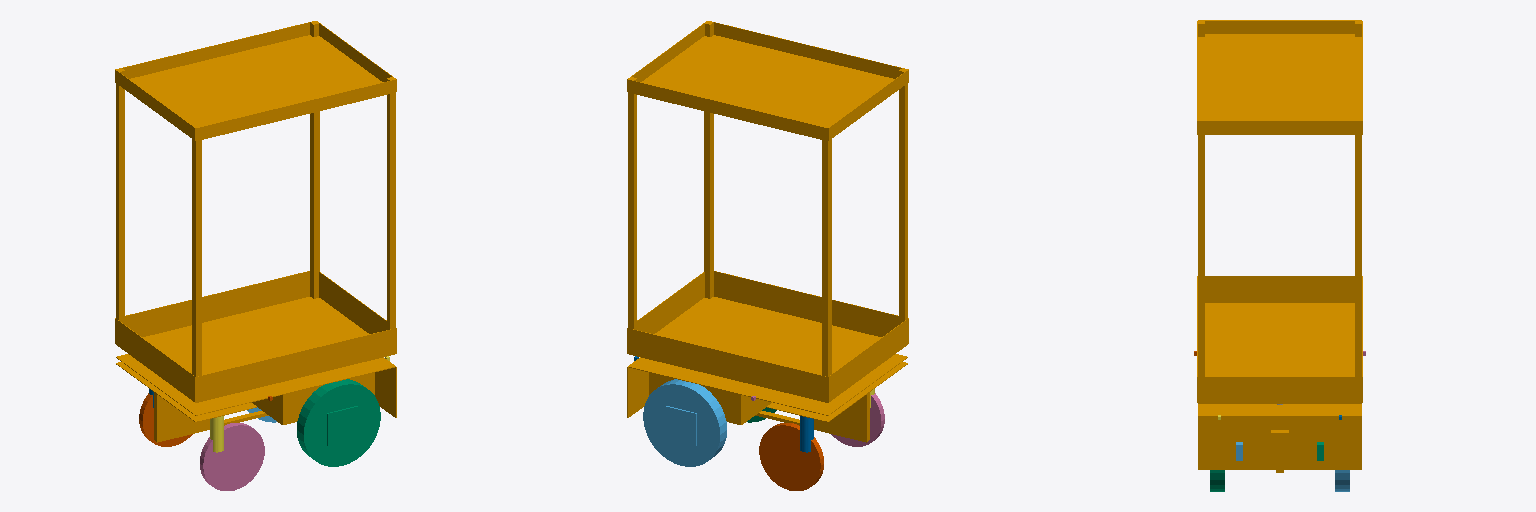
--- Facts derived from the render (not from the file) ---
3 views of the same robot in one strip: view 1: azimuth 30°, elevation 25°; view 2: azimuth 150°, elevation 25°; view 3: azimuth 270°, elevation 25° (orthographic).
Model pulurobot with 15 links and 14 joints (6 continuous, 8 fixed), rooted at link_chassis, posed every joint at zero.
Links seen in each view (by area): view 1: link_chassis, link_left_engine_wheel, link_right_free_wheel, link_left_free_wheel; view 2: link_chassis, link_right_engine_wheel, link_left_free_wheel, link_right_free_wheel; view 3: link_chassis.
Boxes of the visible links, <box> form: link_chassis: <box>115,21,396,442</box>; link_left_engine_wheel: <box>297,379,380,466</box>; link_right_free_wheel: <box>200,423,264,490</box>; link_left_free_wheel: <box>139,393,192,446</box>; link_chassis: <box>627,21,908,442</box>; link_right_engine_wheel: <box>643,379,726,466</box>; link_left_free_wheel: <box>759,423,823,490</box>; link_right_free_wheel: <box>831,393,884,446</box>; link_chassis: <box>1197,20,1362,472</box>.
Bounding box of the posed robot: 0.671 × 0.47 × 1.18 m (x, y, z).
Geometry: primitives only (box / cylinder / sphere), no mesh files.

The robot description file, URDF, robot "pulurobot":
<?xml version="1.0"?>
<robot name="pulurobot">
  
  <gazebo reference="link_chassis">
    <material>Gazebo/Orange</material>
  </gazebo>
  <gazebo reference="link_right_free_wheel">
    <material>Gazebo/Grey</material>
  </gazebo>
  <gazebo reference="link_left_free_wheel">
    <material>Gazebo/Grey</material>
  </gazebo>
  <gazebo reference="link_left_link_wheel">
    <material>Gazebo/Yellow</material>
  </gazebo>
  <gazebo reference="link_right_link_wheel">
    <material>Gazebo/Yellow</material>
  </gazebo>
  <gazebo reference="link_right_engine_wheel">
    <material>Gazebo/Grey</material>
  </gazebo>
  <gazebo reference="link_left_engine_wheel">
    <material>Gazebo/Grey</material>
  </gazebo>

  <!-- control pulurobot -->
  <gazebo>
    <plugin filename="libgazebo_ros_diff_drive.so" name="differential_drive_controller">
      <alwaysOn>true</alwaysOn>
      <updateRate>20</updateRate>
      <leftJoint>joint_left_engine_wheel</leftJoint>
      <rightJoint>joint_right_engine_wheel</rightJoint>
      <wheelSeparation>0.34</wheelSeparation>
      <wheelDiameter>0.125</wheelDiameter>
      <torque>0.1</torque>
      <commandTopic>cmd_vel</commandTopic>
      <odometryTopic>odom</odometryTopic>
      <odometryFrame>odom</odometryFrame>
      <robotBaseFrame>link_chassis</robotBaseFrame>
    </plugin>
  </gazebo>
  
    <!-- LIDAR -->
  <gazebo reference="hokuyo_link">
    <sensor type="gpu_ray" name="head_hokuyo_sensor">
      <pose>0 0 0 0 0 0</pose>
      <visualize>false</visualize>
      <update_rate>20</update_rate>
      <ray>
        <scan>
          <horizontal>
            <samples>1024</samples>
            <resolution>1</resolution>
            <min_angle>-3.14</min_angle>
            <max_angle>3.14</max_angle>
          </horizontal>
        </scan>
        <range>
          <min>0.10</min>
          <max>30.0</max>
          <resolution>0.01</resolution>
        </range>
        <noise>
          <type>gaussian</type>
          <!-- Noise parameters based on published spec for Hokuyo laser
               achieving "+-30mm" accuracy at range < 10m.  A mean of 0.0m and
               stddev of 0.01m will put 99.7% of samples within 0.03m of the true
               reading. -->
          <mean>0.0</mean>
          <stddev>0.01</stddev>
        </noise>
      </ray>
      <plugin name="gazebo_ros_head_hokuyo_controller" filename="libgazebo_ros_gpu_laser.so">
        <topicName>/pulurobot/laser/scan</topicName>
        <frameName>hokuyo_link</frameName>
      </plugin>
    </sensor>
  </gazebo>

  <!-- sonar -->
  <gazebo reference="base_sonar_front">        
   <sensor type="ray" name="sonar1">
      <pose>0 0 0 0 0 0</pose>
      <visualize>false</visualize>
      <update_rate>10</update_rate>
      <ray>
         <scan>
            <horizontal>
               <samples>20</samples>
               <resolution>1</resolution> 
               <min_angle>-0.13</min_angle>
               <max_angle>0.13</max_angle>
            </horizontal>
            <vertical>
               <samples>20</samples>
               <resolution>1</resolution> 
               <min_angle>-0.13</min_angle>
               <max_angle>0.13</max_angle> 
            </vertical>
         </scan>
         <range>
            <min>0.01</min>
            <max>2</max>
            <resolution>0.02</resolution>
         </range>
      </ray>
      <plugin filename="libgazebo_ros_range.so" name="gazebo_ros_range">
         <gaussianNoise>0.005</gaussianNoise>
         <alwaysOn>true</alwaysOn>
         <updateRate>10</updateRate>
         <topicName>sensor/ir_front</topicName>
         <frameName>base_sonar_front</frameName>
         <radiation>INFRARED</radiation>
         <fov>0.2967</fov>
      </plugin>
   </sensor>  
   </gazebo>
   
   <gazebo reference="base_sonar_front2">        
   <sensor type="ray" name="sonar2">
      <pose>0 0 0 0 0 0</pose>
      <visualize>false</visualize>
      <update_rate>10</update_rate>
      <ray>
         <scan>
            <horizontal>
               <samples>20</samples>
               <resolution>1</resolution> 
               <min_angle>-0.13</min_angle>
               <max_angle>0.13</max_angle>
            </horizontal>
            <vertical>
               <samples>20</samples>
               <resolution>1</resolution> 
               <min_angle>-0.13</min_angle>
               <max_angle>0.13</max_angle> 
            </vertical>
         </scan>
         <range>
            <min>0.01</min>
            <max>2</max>
            <resolution>0.02</resolution>
         </range>
      </ray>
      <plugin filename="libgazebo_ros_range.so" name="gazebo_ros_range">
         <gaussianNoise>0.005</gaussianNoise>
         <alwaysOn>true</alwaysOn>
         <updateRate>10</updateRate>
         <topicName>sensor/ir_front</topicName>
         <frameName>base_sonar_front2</frameName>
         <radiation>INFRARED</radiation>
         <fov>0.2967</fov>
      </plugin>
   </sensor>  
   </gazebo>
   
   <gazebo reference="base_sonar_front3">        
   <sensor type="ray" name="sonar3">
      <pose>0 0 0 0 0 0</pose>
      <visualize>false</visualize>
      <update_rate>10</update_rate>
      <ray>
         <scan>
            <horizontal>
               <samples>20</samples>
               <resolution>1</resolution> 
               <min_angle>-0.13</min_angle>
               <max_angle>0.13</max_angle>
            </horizontal>
            <vertical>
               <samples>20</samples>
               <resolution>1</resolution> 
               <min_angle>-0.13</min_angle>
               <max_angle>0.13</max_angle> 
            </vertical>
         </scan>
         <range>
            <min>0.01</min>
            <max>2</max>
            <resolution>0.02</resolution>
         </range>
      </ray>
      <plugin filename="libgazebo_ros_range.so" name="gazebo_ros_range">
         <gaussianNoise>0.005</gaussianNoise>
         <alwaysOn>true</alwaysOn>
         <updateRate>10</updateRate>
         <topicName>sensor/ir_front</topicName>
         <frameName>base_sonar_front3</frameName>
         <radiation>INFRARED</radiation>
         <fov>0.2967</fov>
      </plugin>
   </sensor>  
   </gazebo>
   
   <!-- camera -->
  <gazebo reference="camera">  
      <sensor type="depth" name="camera">
        <always_on>true</always_on>
        <update_rate>5</update_rate>
        <camera>
          <horizontal_fov>1</horizontal_fov>
          <image>
            <format>R8G8B8</format>
            <width>100</width>
            <height>300</height>
          </image>
          <clip>
            <near>0.05</near>
            <far>2</far>
          </clip>
        </camera>
        <plugin name="kinect_camera_controller" filename="libgazebo_ros_depth_camera.so">
          <cameraName>camera</cameraName>
          <alwaysOn>true</alwaysOn>
          <updateRate>5</updateRate>
          <imageTopicName>rgb/image_raw</imageTopicName>
          <depthImageTopicName>depth/image_raw</depthImageTopicName>
          <pointCloudTopicName>depth/points</pointCloudTopicName>
          <cameraInfoTopicName>rgb/camera_info</cameraInfoTopicName>
          <depthImageCameraInfoTopicName>depth/camera_info</depthImageCameraInfoTopicName>
          <frameName>camera</frameName>
          <baseline>0.2</baseline>
          <distortion_k1>0.0</distortion_k1>
          <distortion_k2>0.0</distortion_k2>
          <distortion_k3>0.0</distortion_k3>
          <distortion_t1>0.0</distortion_t1>
          <distortion_t2>0.0</distortion_t2>
          <pointCloudCutoff>0.05</pointCloudCutoff>
          <CxPrime>0</CxPrime>
          <Cx>0</Cx>
          <Cy>0</Cy>
        </plugin>
      </sensor>
    </gazebo>
    
    <gazebo reference="camera2">  
      <sensor type="depth" name="camera2">
        <always_on>true</always_on>
        <update_rate>5</update_rate>
        <camera>
          <horizontal_fov>1</horizontal_fov>
          <image>
            <format>R8G8B8</format>
            <width>100</width>
            <height>300</height>
          </image>
          <clip>
            <near>0.05</near>
            <far>2</far>
          </clip>
        </camera>
        <plugin name="kinect_camera_controller" filename="libgazebo_ros_depth_camera.so">
          <cameraName>camera2</cameraName>
          <alwaysOn>true</alwaysOn>
          <updateRate>5</updateRate>
          <imageTopicName>rgb/image_raw</imageTopicName>
          <depthImageTopicName>depth/image_raw</depthImageTopicName>
          <pointCloudTopicName>depth/points</pointCloudTopicName>
          <cameraInfoTopicName>rgb/camera_info</cameraInfoTopicName>
          <depthImageCameraInfoTopicName>depth/camera_info</depthImageCameraInfoTopicName>
          <frameName>camera2</frameName>
          <baseline>0.2</baseline>
          <distortion_k1>0.0</distortion_k1>
          <distortion_k2>0.0</distortion_k2>
          <distortion_k3>0.0</distortion_k3>
          <distortion_t1>0.0</distortion_t1>
          <distortion_t2>0.0</distortion_t2>
          <pointCloudCutoff>0.05</pointCloudCutoff>
          <CxPrime>0</CxPrime>
          <Cx>0</Cx>
          <Cy>0</Cy>
        </plugin>
      </sensor>
    </gazebo>
    
    <gazebo reference="camera3">  
      <sensor type="depth" name="camera3">
        <always_on>true</always_on>
        <update_rate>5</update_rate>
        <camera>
          <horizontal_fov>1</horizontal_fov>
          <image>
            <format>R8G8B8</format>
            <width>100</width>
            <height>300</height>
          </image>
          <clip>
            <near>0.05</near>
            <far>2</far>
          </clip>
        </camera>
        <plugin name="kinect_camera_controller" filename="libgazebo_ros_depth_camera.so">
          <cameraName>camera3</cameraName>
          <alwaysOn>true</alwaysOn>
          <updateRate>5</updateRate>
          <imageTopicName>rgb/image_raw</imageTopicName>
          <depthImageTopicName>depth/image_raw</depthImageTopicName>
          <pointCloudTopicName>depth/points</pointCloudTopicName>
          <cameraInfoTopicName>rgb/camera_info</cameraInfoTopicName>
          <depthImageCameraInfoTopicName>depth/camera_info</depthImageCameraInfoTopicName>
          <frameName>camera3</frameName>
          <baseline>0.2</baseline>
          <distortion_k1>0.0</distortion_k1>
          <distortion_k2>0.0</distortion_k2>
          <distortion_k3>0.0</distortion_k3>
          <distortion_t1>0.0</distortion_t1>
          <distortion_t2>0.0</distortion_t2>
          <pointCloudCutoff>0.05</pointCloudCutoff>
          <CxPrime>0</CxPrime>
          <Cx>0</Cx>
          <Cy>0</Cy>
        </plugin>
      </sensor>
    </gazebo>
    
    <gazebo reference="camera4">  
      <sensor type="depth" name="camera4">
        <always_on>true</always_on>
        <update_rate>5</update_rate>
        <camera>
          <horizontal_fov>1</horizontal_fov>
          <image>
            <format>R8G8B8</format>
            <width>100</width>
            <height>300</height>
          </image>
          <clip>
            <near>0.05</near>
            <far>2</far>
          </clip>
        </camera>
        <plugin name="kinect_camera_controller" filename="libgazebo_ros_depth_camera.so">
          <cameraName>camera4</cameraName>
          <alwaysOn>true</alwaysOn>
          <updateRate>5</updateRate>
          <imageTopicName>rgb/image_raw</imageTopicName>
          <depthImageTopicName>depth/image_raw</depthImageTopicName>
          <pointCloudTopicName>depth/points</pointCloudTopicName>
          <cameraInfoTopicName>rgb/camera_info</cameraInfoTopicName>
          <depthImageCameraInfoTopicName>depth/camera_info</depthImageCameraInfoTopicName>
          <frameName>camera4</frameName>
          <baseline>0.2</baseline>
          <distortion_k1>0.0</distortion_k1>
          <distortion_k2>0.0</distortion_k2>
          <distortion_k3>0.0</distortion_k3>
          <distortion_t1>0.0</distortion_t1>
          <distortion_t2>0.0</distortion_t2>
          <pointCloudCutoff>0.05</pointCloudCutoff>
          <CxPrime>0</CxPrime>
          <Cx>0</Cx>
          <Cy>0</Cy>
        </plugin>
      </sensor>
    </gazebo>

  
  <!-- pulurobot link and joint -->
   <link name="link_chassis">
    <!-- pose and inertial -->
    <pose>0 0 0.1 0 0 0</pose>
    <inertial>
      <mass value="15"/>
      <origin rpy="0 0 0" xyz="0 0 0.1"/>
      <inertia ixx="0.0395416666667" ixy="0" ixz="0" iyy="0.106208333333" iyz="0" izz="0.106208333333"/>
    </inertial>
    <!-- down_plate -->
    <collision name="down_plate_base">
      <origin rpy="0 0 0" xyz="0 0 0.04"/>
      <geometry>
        <box size="0.65 0.45 0.002"/>
      </geometry>
    </collision>
    <visual>
      <origin rpy="0 0 0" xyz="0 0 0.04"/>
      <geometry>
        <box size="0.65 0.45 0.002"/>
      </geometry>
      <material name="blue"/>
    </visual>
    <collision name="down_plate_side1">
      <origin rpy="0 0 0" xyz="0.325 0 0.08"/>
      <geometry>
        <box size="0.002 0.45 0.08"/>
      </geometry>
    </collision>
    <visual>
      <origin rpy="0 0 0" xyz="0.325 0 0.08"/>
      <geometry>
        <box size="0.002 0.45 0.08"/>
      </geometry>
    </visual>
    <collision name="down_plate_side2">
      <origin rpy="0 0 0" xyz="-0.325 0 0.08"/>
      <geometry>
        <box size="0.002 0.45 0.08"/>
      </geometry>
    </collision>
    <visual>
      <origin rpy="0 0 0" xyz="-0.325 0 0.08"/>
      <geometry>
        <box size="0.002 0.45 0.08"/>
      </geometry>
    </visual>
    <collision name="down_plate_side3">
      <origin rpy="0 0 0" xyz="0 0.225 0.08"/>
      <geometry>
        <box size="0.64 0.002 0.08"/>
      </geometry>
    </collision>
    <visual>
      <origin rpy="0 0 0" xyz="0 0.225 0.08"/>
      <geometry>
        <box size="0.65 0.002 0.08"/>
      </geometry>
    </visual>
    <collision name="down_plate_side4">
      <origin rpy="0 0 0" xyz="0 -0.225 0.08"/>
      <geometry>
        <box size="0.64 0.002 0.08"/>
      </geometry>
    </collision>
    <visual>
      <origin rpy="0 0 0" xyz="0 -0.225 0.08"/>
      <geometry>
        <box size="0.65 0.002 0.08"/>
      </geometry>
    </visual>

    <!-- up_plate -->
    <collision name="up_plate_base">
      <origin rpy="0 0 0" xyz="0 0 0.85"/>
      <geometry>
        <box size="0.65 0.45 0.002"/>
      </geometry>
    </collision>
    <visual>
      <origin rpy="0 0 0" xyz="0 0 0.85"/>
      <geometry>
        <box size="0.65 0.45 0.002"/>
      </geometry>
    </visual>
    <collision name="up_plate_side1">
      <origin rpy="0 0 0" xyz="0.325 0 0.87"/>
      <geometry>
        <box size="0.002 0.45 0.04"/>
      </geometry>
    </collision>
    <visual>
      <origin rpy="0 0 0" xyz="0.325 0 0.87"/>
      <geometry>
        <box size="0.002 0.45 0.04"/>
      </geometry>
    </visual>
    <collision name="up_plate_side2">
      <origin rpy="0 0 0" xyz="-0.325 0 0.87"/>
      <geometry>
        <box size="0.002 0.45 0.04"/>
      </geometry>
    </collision>
    <visual>
      <origin rpy="0 0 0" xyz="-0.325 0 0.87"/>
      <geometry>
        <box size="0.002 0.45 0.04"/>
      </geometry>
    </visual>
    <collision name="up_plate_side3">
      <origin rpy="0 0 0" xyz="0 0.225 0.87"/>
      <geometry>
        <box size="0.64 0.002 0.04"/>
      </geometry>
    </collision>
    <visual>
      <origin rpy="0 0 0" xyz="0 0.225 0.87"/>
      <geometry>
        <box size="0.65 0.002 0.04"/>
      </geometry>
    </visual>
    <collision name="up_plate_side4">
      <origin rpy="0 0 0" xyz="0 -0.225 0.87"/>
      <geometry>
        <box size="0.64 0.002 0.04"/>
      </geometry>
    </collision>
    <visual>
      <origin rpy="0 0 0" xyz="0 -0.225 0.87"/>
      <geometry>
        <box size="0.65 0.002 0.04"/>
      </geometry>
    </visual>
        
    <!-- separation down_plate and up_plate -->
    <collision name="separation1">
      <origin rpy="0 0 0" xyz="0.315 0.215 0.465"/>
      <geometry>
        <box size="0.02 0.02 0.85"/>
      </geometry>
    </collision>
    <visual>
      <origin rpy="0 0 0" xyz="0.315 0.215 0.465"/>
      <geometry>
        <box size="0.02 0.02 0.85"/>
      </geometry>
    </visual>
    <collision name="separation2">
      <origin rpy="0 0 0" xyz="0.315 -0.215 0.465"/>
      <geometry>
        <box size="0.02 0.02 0.85"/>
      </geometry>
    </collision>
    <visual>
      <origin rpy="0 0 0" xyz="0.315 -0.215 0.465"/>
      <geometry>
        <box size="0.02 0.02 0.85"/>
      </geometry>
    </visual>
    <collision name="separation3">
      <origin rpy="0 0 0" xyz="-0.315 0.215 0.465"/>
      <geometry>
        <box size="0.02 0.02 0.85"/>
      </geometry>
    </collision>
    <visual>
      <origin rpy="0 0 0" xyz="-0.315 0.215 0.465"/>
      <geometry>
        <box size="0.02 0.02 0.85"/>
      </geometry>
    </visual>
    <collision name="separation4">
      <origin rpy="0 0 0" xyz="-0.315 -0.215 0.465"/>
      <geometry>
        <box size="0.02 0.02 0.85"/>
      </geometry>
    </collision>
    <visual>
      <origin rpy="0 0 0" xyz="-0.315 -0.215 0.465"/>
      <geometry>
        <box size="0.02 0.02 0.85"/>
      </geometry>
    </visual>
            
    <!-- engine_plate -->
    <collision name="engine_plate_base">
      <origin rpy="0 0 0" xyz="0.175 0 -0.08"/>
      <geometry>
        <box size="0.30 0.2115 0.16"/>
      </geometry>
    </collision>
    <visual>
      <origin rpy="0 0 0" xyz="0.175 0 -0.08"/>
      <geometry>
        <box size="0.30 0.2115 0.16"/>
      </geometry>
    </visual>        
    <collision name="engine_plate_up">
      <origin rpy="0 0 0" xyz="0 0 0"/>
      <geometry>
        <box size="0.65 0.45 0.002"/>
      </geometry>
    </collision>
    <visual>
      <origin rpy="0 0 0" xyz="0 0 0"/>
      <geometry>
        <box size="0.65 0.45 0.002"/>
      </geometry>
    </visual>        
    <collision name="engine_plate_side">
      <origin rpy="0 0 0" xyz="0.325 0 -0.08"/>
      <geometry>
        <box size="0.002 0.45 0.16"/>
      </geometry>
    </collision>
    <visual>
      <origin rpy="0 0 0" xyz="0.325 0 -0.08"/>
      <geometry>
        <box size="0.002 0.45 0.16"/>
      </geometry>
    </visual>
    <collision name="engine_plate_down">
      <origin rpy="0 0 0" xyz="0 0 -0.165"/>
      <geometry>
        <box size="0.65 0.02 0.01"/>
      </geometry>
    </collision>
    <visual>
      <origin rpy="0 0 0" xyz="0 0 -0.165"/>
      <geometry>
        <box size="0.65 0.02 0.01"/>
      </geometry>
    </visual>
    <collision name="engine_plate_socle_free_wheel1">
      <origin rpy="0 0 0" xyz="-0.225 0 -0.09"/>
      <geometry>
        <box size="0.2 0.02 0.14"/>
      </geometry>
    </collision>
    <visual>
      <origin rpy="0 0 0" xyz="-0.225 0 -0.09"/>
      <geometry>
        <box size="0.2 0.02 0.14"/>
      </geometry>
    </visual>
    <collision name="engine_plate_free_wheel2">
      <origin rpy="0 0 0" xyz="-0.225 0 -0.02"/>
      <geometry>
        <box size="0.2 0.45 0.002"/>
      </geometry>
    </collision>
    <visual>
      <origin rpy="0 0 0" xyz="-0.225 0 -0.02"/>
      <geometry>
        <box size="0.2 0.45 0.002"/>
      </geometry>
    </visual>
    
   </link>
   
  <!-- link engine wheels -->
  <link name="link_right_engine_wheel">
    <inertial>
      <mass value="2"/>
      <origin rpy="0 1.5707 1.5707" xyz="0 0 0"/>
      <inertia ixx="0.000526666666667" ixy="0" ixz="0" iyy="0.000526666666667" iyz="0" izz="0.001"/>
    </inertial>
    <collision name="link_right_engine_wheel_collision">
      <origin rpy="0 1.5707 1.5707" xyz="0 0 0"/>
      <geometry>
        <cylinder length="0.04" radius="0.125"/>
      </geometry>
    </collision>
    <visual name="link_right_engine_wheel_visual">
      <origin rpy="0 1.5707 1.5707" xyz="0 0 0"/>
      <geometry>
        <cylinder length="0.04" radius="0.125"/>
      </geometry>
    </visual>
    <collision name="link_right_engine_wheel_collision1">
      <origin rpy="0 0 0" xyz="0 0 0"/>
      <geometry>
        <box size="0.1 0.02 0.1"/>
      </geometry>
    </collision>
    <visual name="link_right_engine_wheel_visual1">
      <origin rpy="0 0 0" xyz="0 0 0"/>
      <geometry>
        <box size="0.1 0.05 0.1"/>
      </geometry>
    </visual>
  </link>
  
  <joint name="joint_right_engine_wheel" type="continuous">
    <origin rpy="0 0 0" xyz="0.17 0.17 -0.16"/>
    <child link="link_right_engine_wheel"/>
    <parent link="link_chassis"/>
    <axis rpy="0 0 0" xyz="0 1 0"/>
    <joint_properties damping="1.0" friction="10.0"/>
  </joint>
  
  <link name="link_left_engine_wheel">
    <inertial>
      <mass value="2"/>
      <origin rpy="0 1.5707 1.5707" xyz="0 0 0"/>
      <inertia ixx="0.000526666666667" ixy="0" ixz="0" iyy="0.000526666666667" iyz="0" izz="0.001"/>
    </inertial>
    <collision name="link_left_engine_wheel_collision">
      <origin rpy="0 1.5707 1.5707" xyz="0 0 0"/>
      <geometry>
        <cylinder length="0.04" radius="0.125"/>
      </geometry>
    </collision>
    <visual name="link_left_engine_wheel_visual">
      <origin rpy="0 1.5707 1.5707" xyz="0 0 0"/>
      <geometry>
        <cylinder length="0.04" radius="0.125"/>
      </geometry>
    </visual>
    <collision name="link_left_engine_wheel_collision1">
      <origin rpy="0 0 0" xyz="0 0 0"/>
      <geometry>
        <box size="0.1 0.05 0.1"/>
      </geometry>
    </collision>
    <visual name="link_left_engine_wheel_visual1">
      <origin rpy="0 0 0" xyz="0 0 0"/>
      <geometry>
        <box size="0.1 0.05 0.1"/>
      </geometry>
    </visual>
  </link>
  
  <joint name="joint_left_engine_wheel" type="continuous">
    <origin rpy="0 0 0" xyz="0.17 -0.17 -0.16"/>
    <child link="link_left_engine_wheel"/>
    <parent link="link_chassis"/>
    <axis rpy="0 0 0" xyz="0 1 0"/>
    <joint_properties friction="10.0"/>
  </joint>
  
  <!-- link link wheel -->
    <link name="link_right_link_wheel">
    <inertial>
      <mass value="1"/>
      <origin rpy="0 0 0" xyz="0 0 0"/>
      <inertia ixx="0.000526666666667" ixy="0" ixz="0" iyy="0.000526666666667" iyz="0" izz="0.001"/>
    </inertial>
    <collision name="link_right_link_wheel_collision">
      <origin rpy="0 0 0" xyz="0 0 0"/>
      <geometry>
        <cylinder length="0.16" radius="0.02"/>
      </geometry>
    </collision>
    <visual name="link_right_link_wheel_visual">
      <origin rpy="0 0 0" xyz="0 0 0"/>
      <geometry>
        <cylinder length="0.13" radius="0.02"/>
      </geometry>
    </visual>
  </link>
  
  <joint name="joint_right_link_wheel" type="continuous">
    <origin rpy="0 0 0" xyz="-0.225 -0.17 -0.085"/>
    <child link="link_right_link_wheel"/>
    <parent link="link_chassis"/>
    <axis rpy="0 0 0" xyz="0 0 1"/>
    <joint_properties damping="0.0" friction="100000.0"/>
  </joint>
  
   <link name="link_left_link_wheel">
    <inertial>
      <mass value="1"/>
      <origin rpy="0 0 0" xyz="0 0 0"/>
      <inertia ixx="0.000526666666667" ixy="0" ixz="0" iyy="0.000526666666667" iyz="0" izz="0.001"/>
    </inertial>
    <collision name="link_left_link_wheel_collision">
      <origin rpy="0 0 0" xyz="0 0 0"/>
      <geometry>
        <cylinder length="0.16" radius="0.02"/>
      </geometry>
    </collision>
    <visual name="link_left_link_wheel_visual">
      <origin rpy="0 0 0" xyz="0 0 0"/>
      <geometry>
        <cylinder length="0.13" radius="0.02"/>
      </geometry>
    </visual>
  </link>
  
  <joint name="joint_left_link_wheel" type="continuous">
    <origin rpy="0 0 0" xyz="-0.225 0.17 -0.085"/>
    <child link="link_left_link_wheel"/>
    <parent link="link_chassis"/>
    <axis rpy="0 0 0" xyz="0 0 1"/>
    <joint_properties damping="0.0" friction="100000.0"/>
  </joint>
  
  <!-- link free wheels -->
  <link name="link_left_free_wheel">
    <inertial>
      <mass value="1"/>
      <origin rpy="0 1.5707 1.5707" xyz="0 0 0"/>
      <inertia ixx="0.000526666666667" ixy="0" ixz="0" iyy="0.000526666666667" iyz="0" izz="0.001"/>
    </inertial>
    <collision name="link_left_free_wheel_collision">
      <origin rpy="0 1.5707 1.5707" xyz="0 0 0"/>
      <geometry>
        <cylinder length="0.02" radius="0.1"/>
      </geometry>
    </collision>
    <visual name="link_left_free_wheel_visual">
      <origin rpy="0 1.5707 1.5707" xyz="0 0 0"/>
      <geometry>
        <cylinder length="0.02" radius="0.1"/>
      </geometry>
    </visual>
  </link>
  
  <joint name="joint_left_free_wheel" type="continuous">
    <origin rpy="0 0 0" xyz="0.05 0 -0.1"/>
    <child link="link_left_free_wheel"/>
    <parent link="link_left_link_wheel"/>
    <axis rpy="0 0 0" xyz="0 1 0"/>
    <joint_properties damping="0.0" friction="100000.0"/>
  </joint>
  
  <link name="link_right_free_wheel">
    <inertial>
      <mass value="1"/>
      <origin rpy="0 1.5707 1.5707" xyz="0 0 0"/>
      <inertia ixx="0.000526666666667" ixy="0" ixz="0" iyy="0.000526666666667" iyz="0" izz="0.001"/>
    </inertial>
    <collision name="link_right_free_wheel_collision">
      <origin rpy="0 1.5707 1.5707" xyz="0 0 0"/>
      <geometry>
        <cylinder length="0.02" radius="0.1"/>
      </geometry>
    </collision>
    <visual name="link_right_free_wheel_visual">
      <origin rpy="0 1.5707 1.5707" xyz="0 0 0"/>
      <geometry>
        <cylinder length="0.02" radius="0.1"/>
      </geometry>
    </visual>
  </link>
  
  <joint name="joint_right_free_wheel" type="continuous">
    <origin rpy="0 0 0" xyz="0.05 0 -0.1"/>
    <child link="link_right_free_wheel"/>
    <parent link="link_right_link_wheel"/>
    <axis rpy="0 0 0" xyz="0 1 0"/>
    <joint_properties damping="0.0" friction="100000.0"/>
  </joint>

  <!-- Hokuyo Laser -->
  <joint name="hokuyo_joint" type="fixed">
    <axis xyz="0 1 0" />
    <origin xyz="0.225 0 0.01" rpy="0 0 0"/>
    <parent link="link_chassis"/>
    <child link="hokuyo_link"/>
  </joint>

  <link name="hokuyo_link">
    <collision>
      <origin xyz="0 0 0" rpy="0 0 0"/>
      <geometry>
       <cylinder length="0.02" radius="0.025"/>
      </geometry>
    </collision>

    <visual>
      <origin xyz="0 0 0" rpy="0 0 0"/>
      <geometry>
        <cylinder length="0.02" radius="0.025"/>
      </geometry>
    </visual>

    <inertial>
      <mass value="1e-5" />
      <origin xyz="0 0 0" rpy="0 0 0"/>
      <inertia ixx="1e-6" ixy="0" ixz="0" iyy="1e-6" iyz="0" izz="1e-6" />
    </inertial>
  </link>

  <!-- link sonar sensor -->
  <joint name="sonar_front_joint" type="fixed">
    <axis xyz="0 1 0" />
    <origin rpy="0 0 0" xyz="0.335 0 -0.05" />
    <parent link="link_chassis"/>
    <child link="base_sonar_front"/>
  </joint>

  <link name="base_sonar_front">
    <collision>
      <origin xyz="-0.005 0 0" rpy="0 0 0"/>
      <geometry>
        <box size="0.01 0.05 0.02"/>
      </geometry>
    </collision>

    <visual>
      <origin xyz="0 0 0" rpy="0 0 0"/>
      <geometry>
        <box size="0.02 0.05 0.02"/>
      </geometry>
    </visual>

    <inertial>
      <mass value="1e-5" />
      <origin xyz="0 0 0" rpy="0 0 0"/>
      <inertia ixx="1e-6" ixy="0" ixz="0" iyy="1e-6" iyz="0" izz="1e-6" />
    </inertial>
 </link>

  <joint name="sonar_front_joint2" type="fixed">
    <axis xyz="0 1 0" />
    <origin rpy="0 0 0" xyz="0.335 -0.11 -0.1" />
    <parent link="link_chassis"/>
    <child link="base_sonar_front2"/>
  </joint>

  <link name="base_sonar_front2">
    <collision>
      <origin xyz="-0.005 0 0" rpy="0 0 0"/>
      <geometry>
        <box size="0.01 0.02 0.05"/>
      </geometry>
    </collision>

    <visual>
      <origin xyz="0 0 0" rpy="0 0 0"/>
      <geometry>
        <box size="0.02 0.02 0.05"/>
      </geometry>
    </visual>

    <inertial>
      <mass value="1e-5" />
      <origin xyz="0 0 0" rpy="0 0 0"/>
      <inertia ixx="1e-6" ixy="0" ixz="0" iyy="1e-6" iyz="0" izz="1e-6" />
    </inertial>
 </link>
 
  <joint name="sonar_front_joint3" type="fixed">
    <axis xyz="0 1 0" />
    <origin rpy="0 0 0" xyz="0.335 0.11 -0.1" />
    <parent link="link_chassis"/>
    <child link="base_sonar_front3"/>
  </joint>

  <link name="base_sonar_front3">
    <collision>
      <origin xyz="-0.005 0 0" rpy="0 0 0"/>
      <geometry>
        <box size="0.01 0.02 0.05"/>
      </geometry>
    </collision>

    <visual>
      <origin xyz="0 0 0" rpy="0 0 0"/>
      <geometry>
        <box size="0.02 0.02 0.05"/>
      </geometry>
    </visual>

    <inertial>
      <mass value="1e-5" />
      <origin xyz="0 0 0" rpy="0 0 0"/>
      <inertia ixx="1e-6" ixy="0" ixz="0" iyy="1e-6" iyz="0" izz="1e-6" />
    </inertial>
 </link>

  <!-- link camera sensor -->
  <link name="camera">
    <collision>
      <origin xyz="0 0 0" rpy="0 0 0"/>
      <geometry>
        <box size="0.01 0.01 0.01"/>
      </geometry>
    </collision>
      <visual>
        <origin xyz="0 0 0" rpy="0 0 0"/>
        <geometry>
            <box size="0.01 0.01 0.01"/>
        </geometry>
      </visual>

      <inertial>
        <mass value="1e-5" />
        <origin xyz="0 0 0" rpy="0 0 0"/>
        <inertia ixx="1e-6" ixy="0" ixz="0" iyy="1e-6" iyz="0" izz="1e-6" />
      </inertial>
    </link>

    <joint name="sensor_joint" type="fixed">
        <parent link="link_chassis"/>
        <child link="camera"/>
        <origin rpy="0 0 0" xyz="0.33 -0.165 0"/>
        <axis xyz="0 1 0" />
    </joint>
    
    <link name="camera2">
      <visual>
        <origin xyz="0 0 0" rpy="0 0 0"/>
        <geometry>
            <box size="0.01 0.01 0.01"/>
        </geometry>
      </visual>

      <inertial>
        <mass value="1e-5" />
        <origin xyz="0 0 0" rpy="0 0 0"/>
        <inertia ixx="1e-6" ixy="0" ixz="0" iyy="1e-6" iyz="0" izz="1e-6" />
      </inertial>
    </link>

    <joint name="sensor_joint2" type="fixed">
        <parent link="link_chassis"/>
        <child link="camera2"/>
        <origin rpy="0 0 0" xyz="0.33 0.165 0"/>
        <axis xyz="0 1 0" />
    </joint>
    
    <link name="camera3">
      <visual>
        <origin xyz="0 0 0" rpy="0 0 0"/>
        <geometry>
            <box size="0.01 0.01 0.01"/>
        </geometry>
      </visual>

      <inertial>
        <mass value="1e-5" />
        <origin xyz="0 0 0" rpy="0 0 0"/>
        <inertia ixx="1e-6" ixy="0" ixz="0" iyy="1e-6" iyz="0" izz="1e-6" />
      </inertial>
    </link>

    <joint name="sensor_joint3" type="fixed">
        <parent link="link_chassis"/>
        <child link="camera3"/>
        <origin rpy="0 0 -1.57" xyz="-0.085 -0.23 0"/>
        <axis xyz="0 1 0" />
    </joint>
    
    <link name="camera4">
      <visual>
        <origin xyz="0 0 0" rpy="0 0 0"/>
        <geometry>
            <box size="0.01 0.01 0.01"/>
        </geometry>
      </visual>

      <inertial>
        <mass value="1e-5" />
        <origin xyz="0 0 0" rpy="0 0 0"/>
        <inertia ixx="1e-6" ixy="0" ixz="0" iyy="1e-6" iyz="0" izz="1e-6" />
      </inertial>
    </link>

    <joint name="sensor_joint4" type="fixed">
        <parent link="link_chassis"/>
        <child link="camera4"/>
        <origin rpy="0 0 1.57" xyz="-0.085 0.23 0"/>
        <axis xyz="0 1 0" />
    </joint>

</robot>
